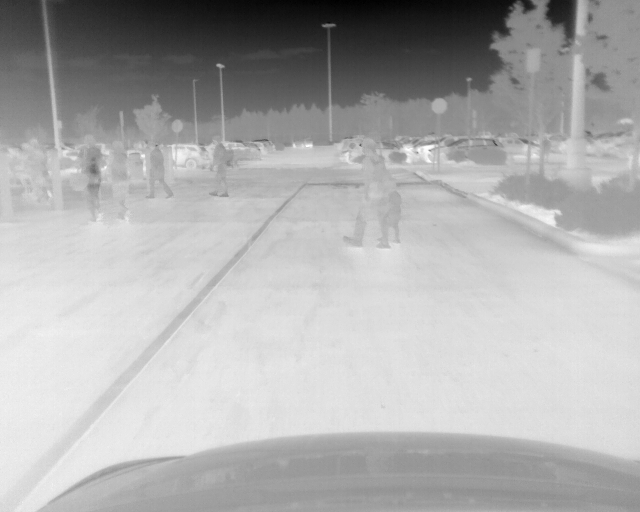car: (429, 137, 503, 164), (347, 140, 419, 165), (169, 144, 208, 169), (504, 138, 541, 156), (291, 139, 313, 148)
people: (343, 143, 391, 252), (73, 135, 104, 226), (19, 143, 53, 204), (109, 141, 131, 222), (147, 142, 174, 199), (208, 135, 228, 197), (383, 183, 401, 244), (540, 137, 552, 164), (226, 144, 236, 165)
